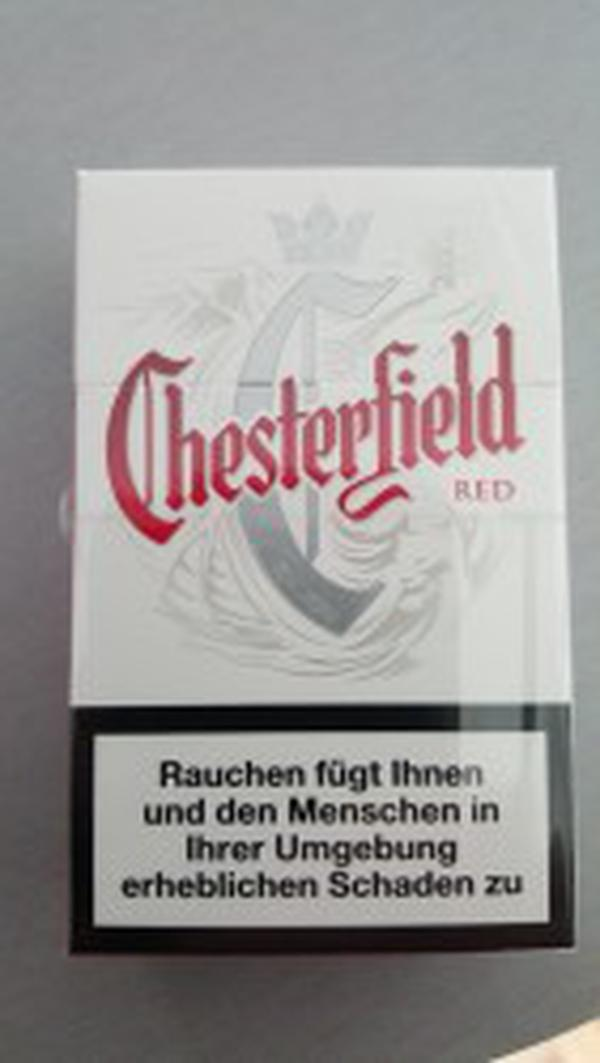chesterfield_red: (72, 174, 563, 950)
